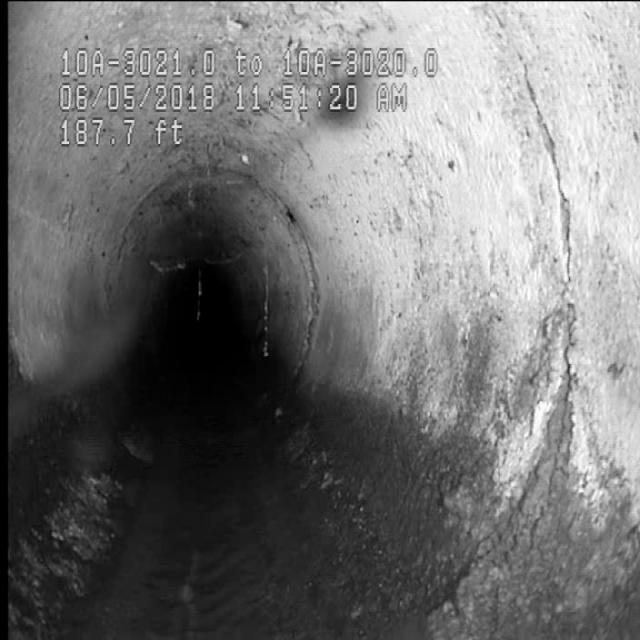Crack: (486, 30, 617, 438)
